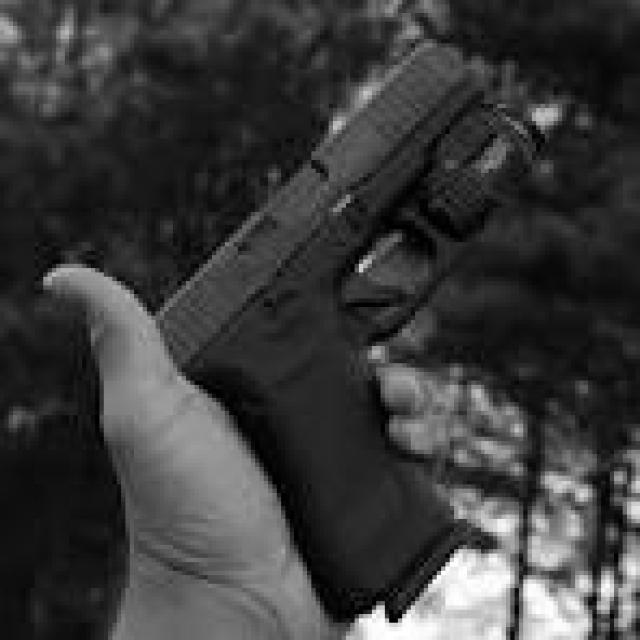handgun: (148, 37, 546, 624)
